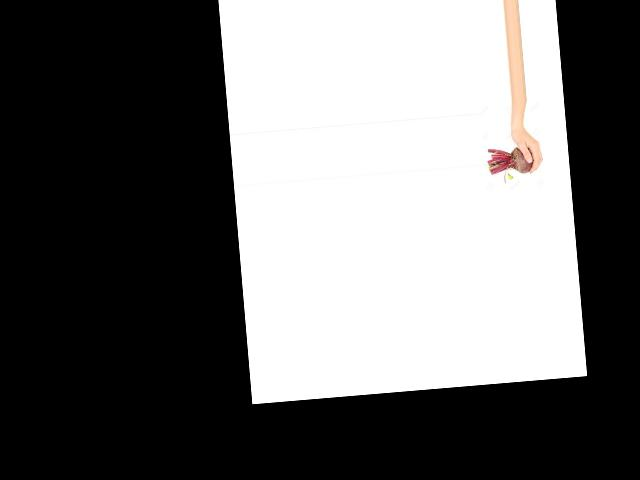beet: (486, 146, 535, 184)
